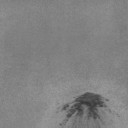iron sheet ash: (59, 91, 110, 126)
